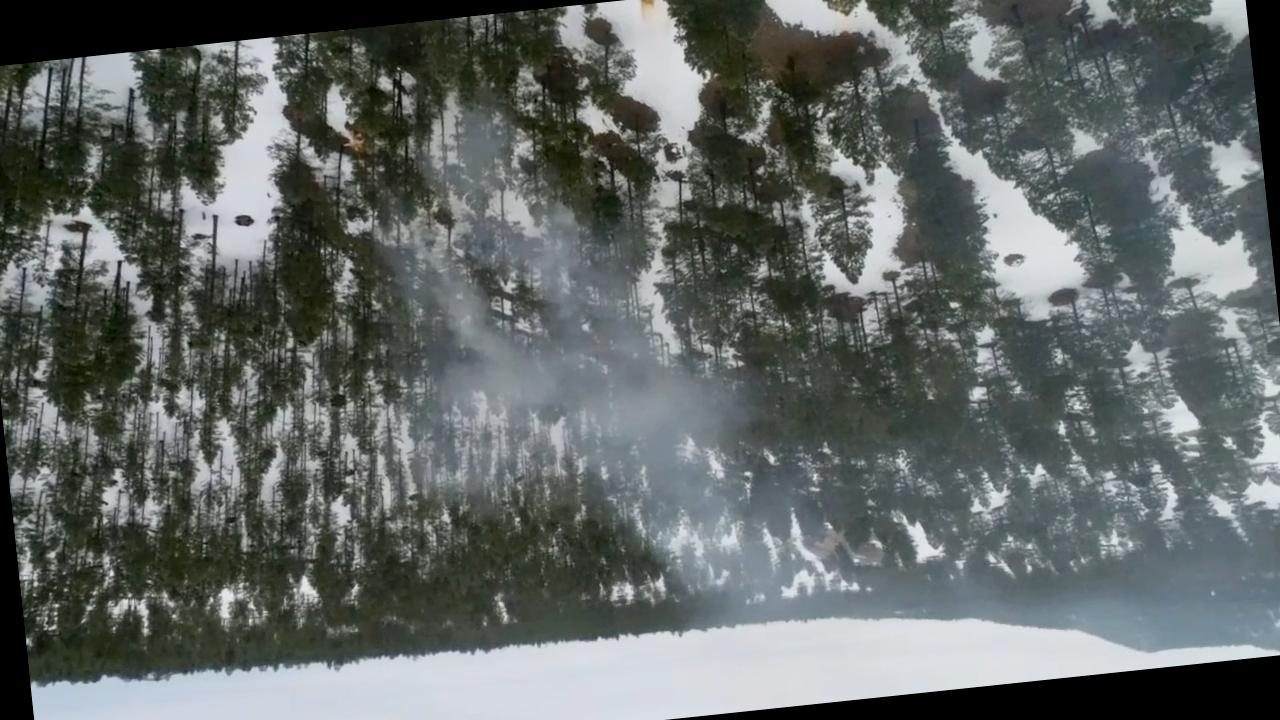smoke: (409, 93, 828, 646)
